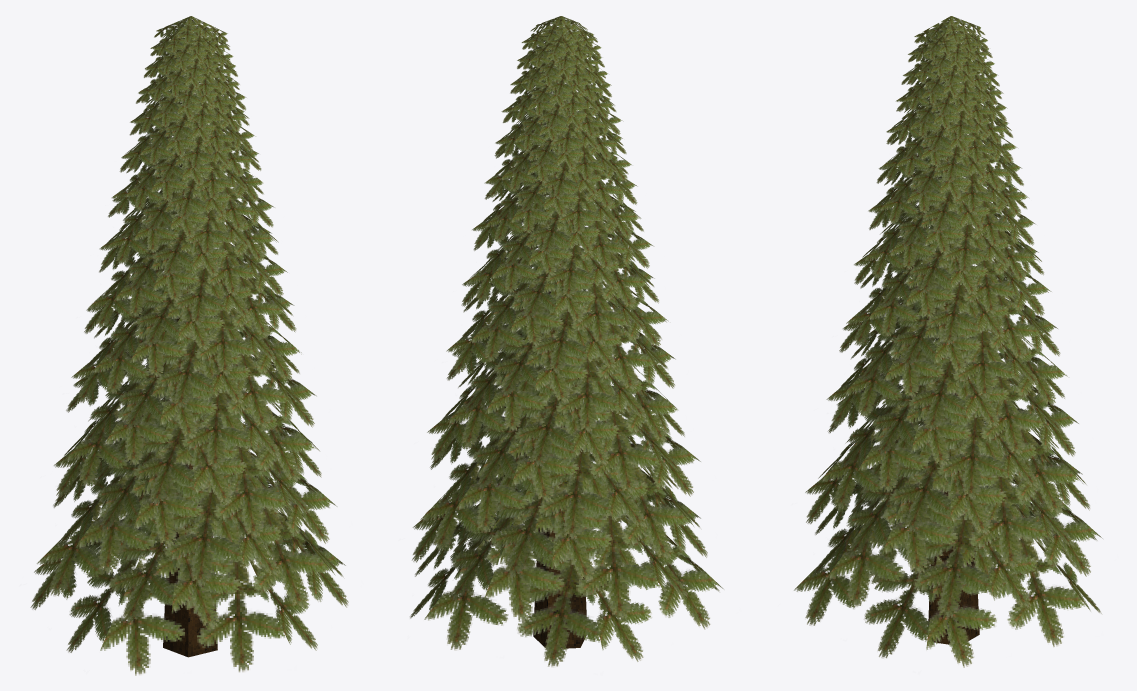
Rendered from tree.glb.
3 views of the same model, side by side, from view 1: azimuth 30°, elevation 25°; view 2: azimuth 150°, elevation 25°; view 3: azimuth 270°, elevation 25° (orthographic).
Parts seen in each view (by area): view 1: pinetree; view 2: pinetree; view 3: pinetree.
Boxes of the visible parts, bbox=[...] form: pinetree: bbox=[30, 16, 348, 675]; pinetree: bbox=[410, 16, 723, 667]; pinetree: bbox=[794, 16, 1102, 667].
Bounding box in the file's own units: 6.09 × 12 × 6.11.
2 materials, 2 textured.
